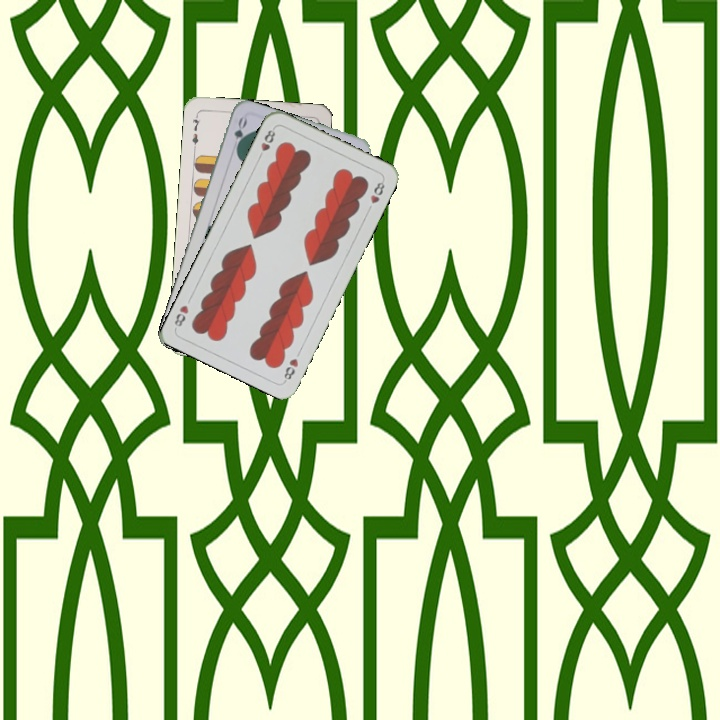E7: (188, 111, 202, 151)
GO: (230, 113, 250, 154)
H8: (254, 124, 278, 162), (280, 354, 301, 384)
